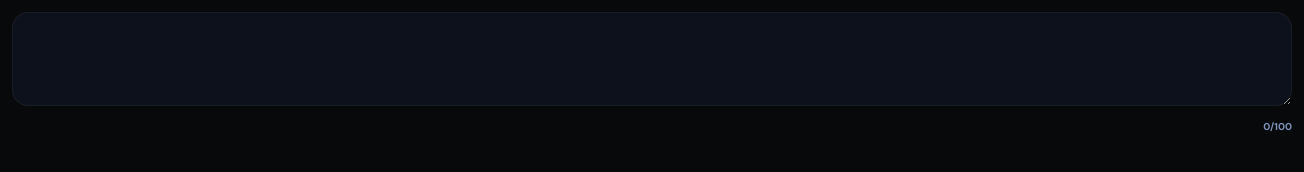
it: Textarea Component › Character Count › shows correct count on change
In the text box: (652, 59) [12, 12, 1292, 106], type "Hello"
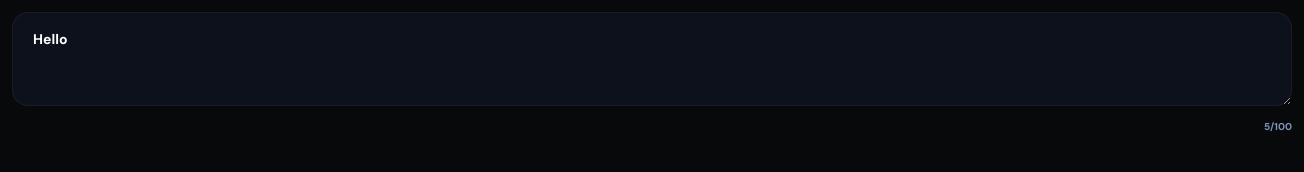
Expected: the text "5/100" is shown, [1264, 119, 1292, 134]
